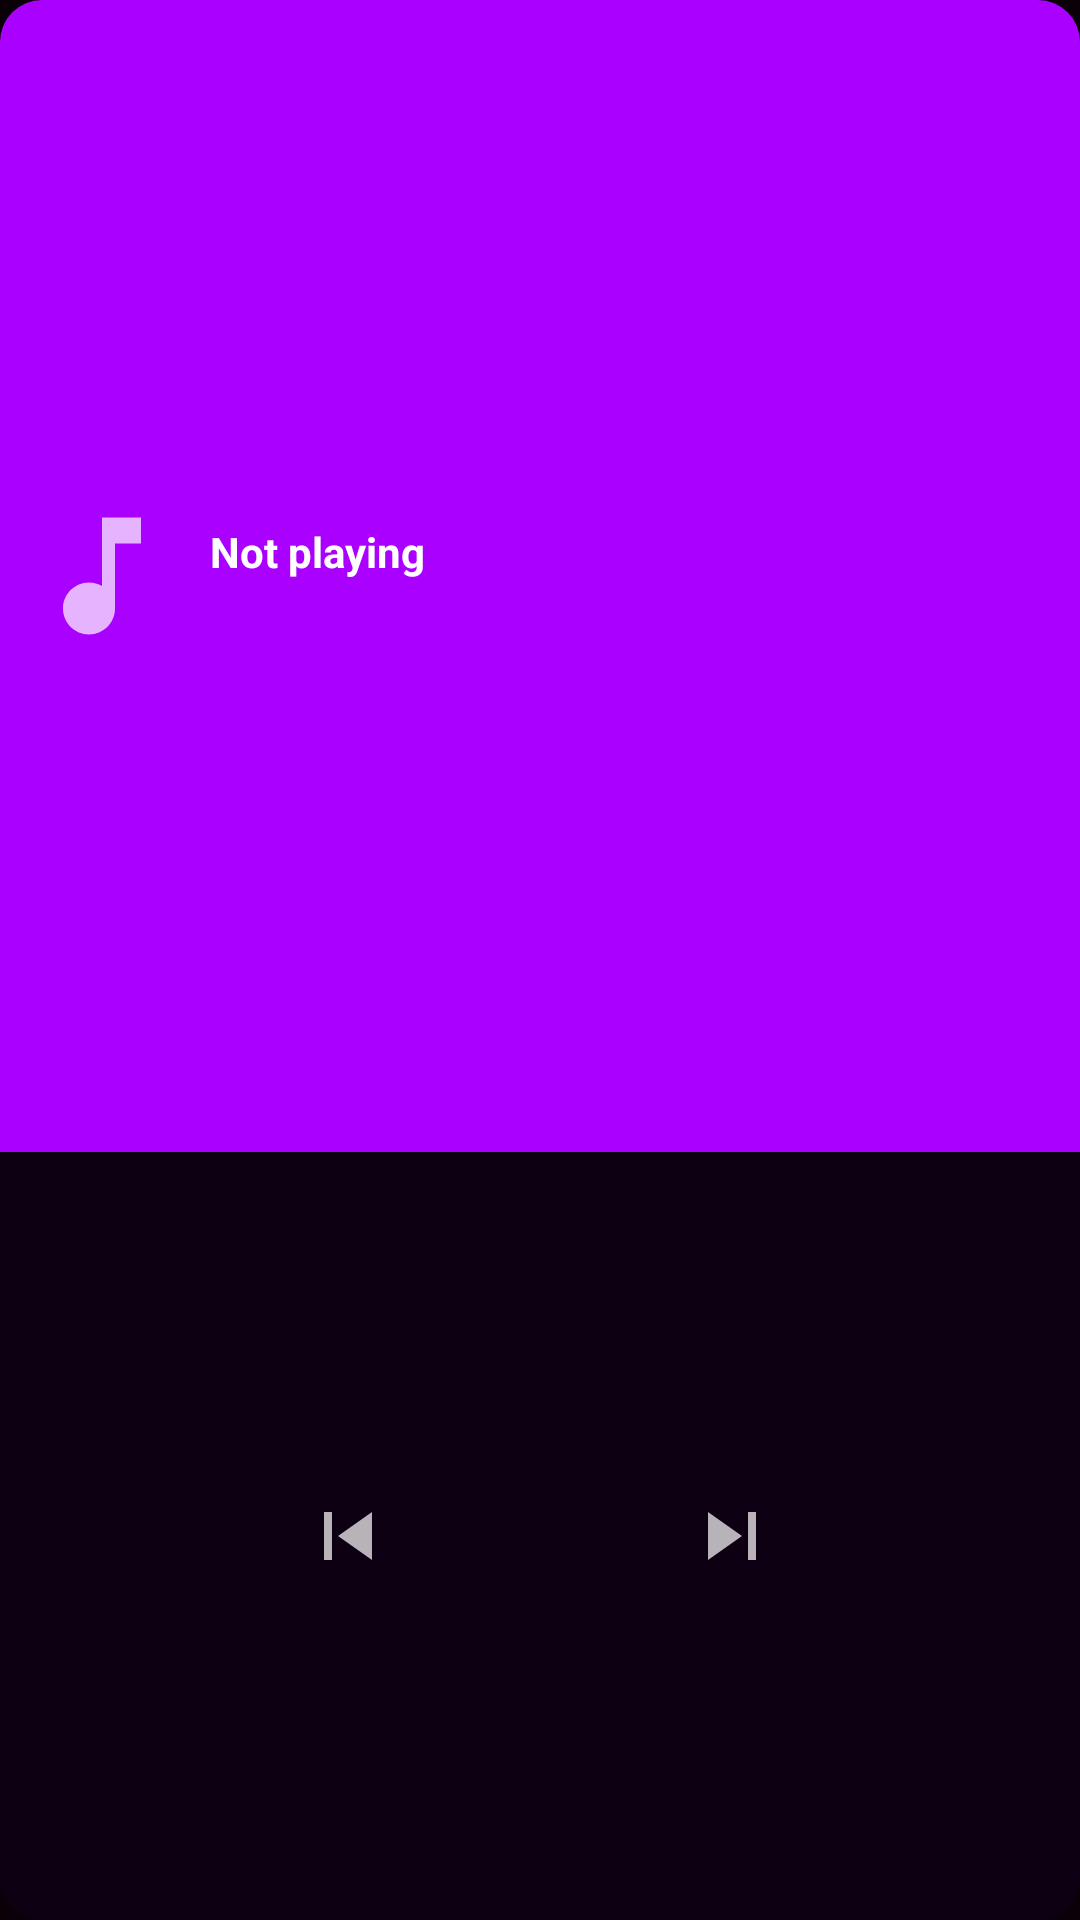

Named icons in this screenshot (1080*1920) and their bounding boxes, (x1, y1, x2, y2):
music note: (63, 517, 141, 635)
skip next: (708, 1512, 756, 1560)
skip previous: (324, 1512, 372, 1560)
